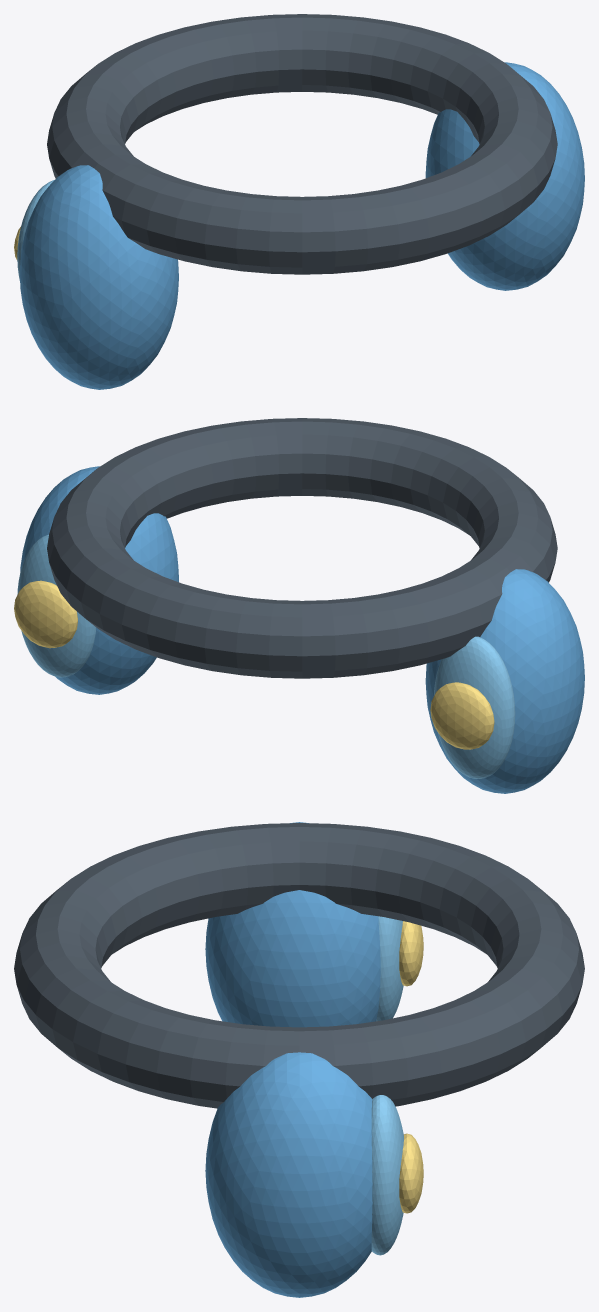
File: headphones.glb
The picture shows the model from 3 angles, top to bottom: view 1: azimuth 30°, elevation 25°; view 2: azimuth 150°, elevation 25°; view 3: azimuth 270°, elevation 25°; orthographic projection. The views are drawn at different scales.
Visible parts, largest first — view 1: headphones_0, headphones_1, headphones_2, headphones_3; view 2: headphones_0, headphones_1, headphones_2, headphones_3, headphones_5, headphones_4, headphones_6; view 3: headphones_0, headphones_2, headphones_1, headphones_4, headphones_3, headphones_6, headphones_5.
Part boxes in pixels (<box>): headphones_0: <box>47,14,557,274</box>; headphones_1: <box>19,165,178,389</box>; headphones_2: <box>425,62,584,290</box>; headphones_3: <box>17,180,54,280</box>; headphones_0: <box>47,418,557,678</box>; headphones_1: <box>425,569,584,793</box>; headphones_2: <box>20,466,178,694</box>; headphones_3: <box>434,636,515,778</box>; headphones_5: <box>430,682,494,749</box>; headphones_4: <box>17,534,96,677</box>; headphones_6: <box>14,580,77,648</box>; headphones_0: <box>14,823,584,1108</box>; headphones_2: <box>205,1052,372,1297</box>; headphones_1: <box>205,822,380,1027</box>; headphones_4: <box>371,1095,403,1255</box>; headphones_3: <box>376,916,403,1021</box>; headphones_6: <box>399,1133,423,1213</box>; headphones_5: <box>399,921,423,986</box>.
Bounding box in the file's own units: 1.04 × 0.415 × 0.85.
